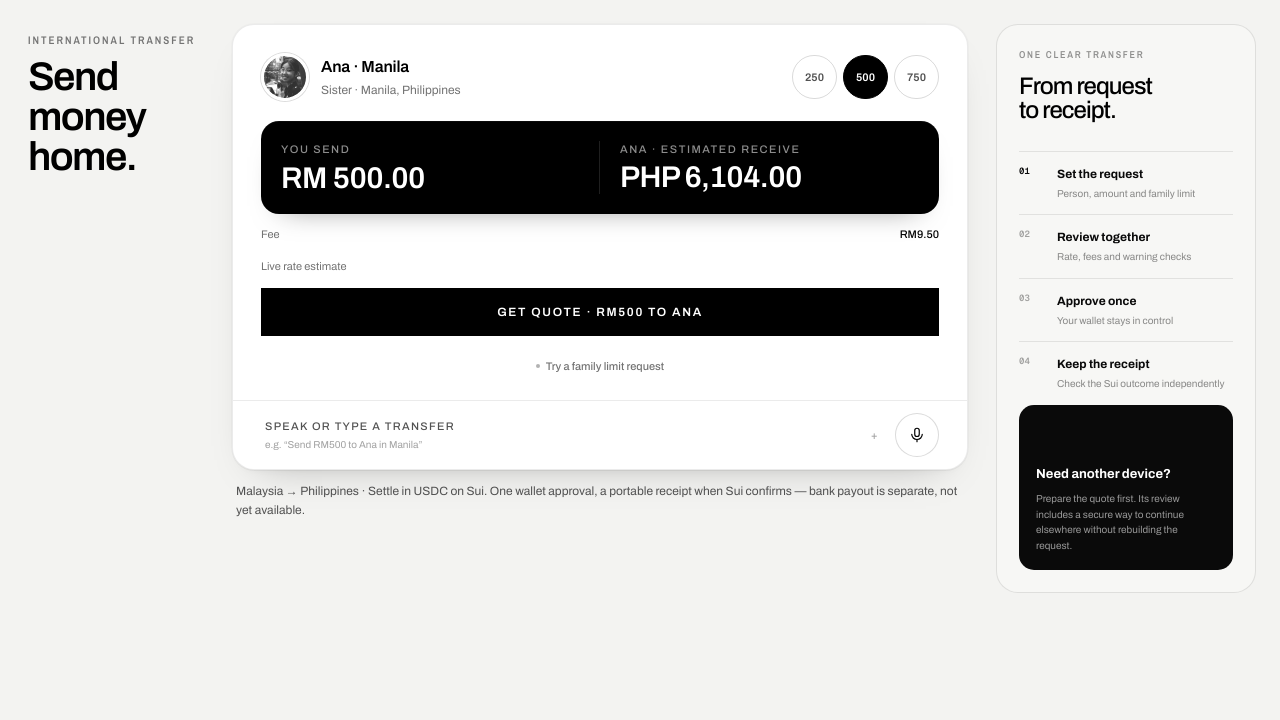
Test: PayWorkspace — default mode and switching › Buy nearby is reachable only via a quiet secondary link and renders the existing commerce composer unchanged
This screenshot has width=1280, height=720.
Buy nearby is a quiet secondary link on the money sheet, not a tab.
Click the button with test id "type-request-toggle" at (360, 426), box top-left (261, 413), bottom-right (883, 457)
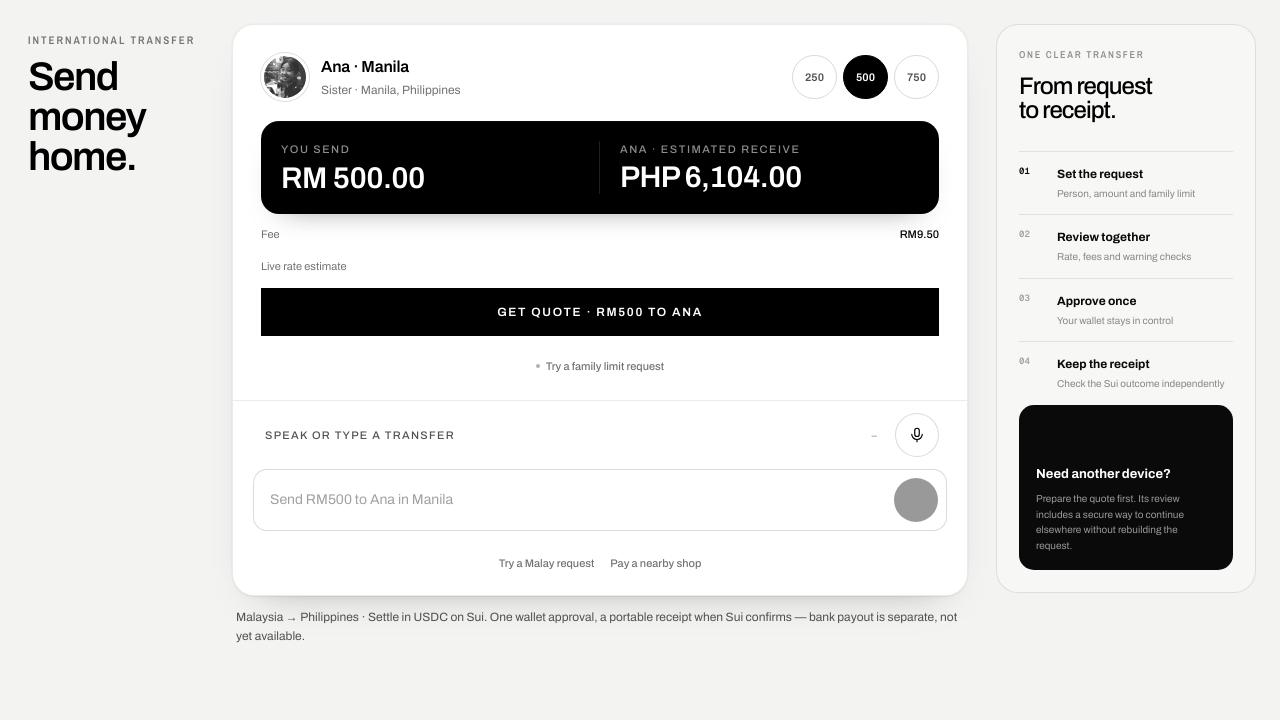
Click the button with test id "switch-to-buy" at (656, 563), box top-left (610, 547), bottom-right (701, 579)
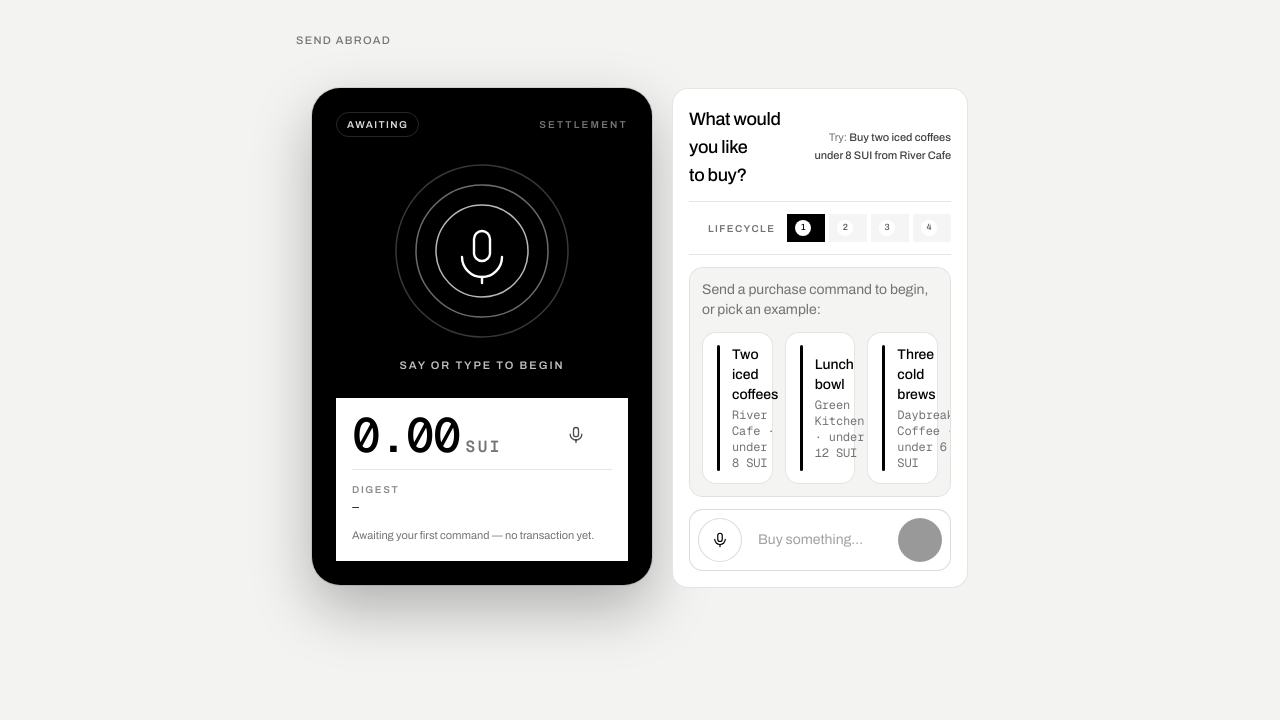
Check: the text "Buy two iced coffees under 8 SUI from River Cafe" is shown, box top-left (814, 131), bottom-right (951, 161)
Check: the form named "Purchase composer" is shown, box top-left (689, 509), bottom-right (951, 571)
